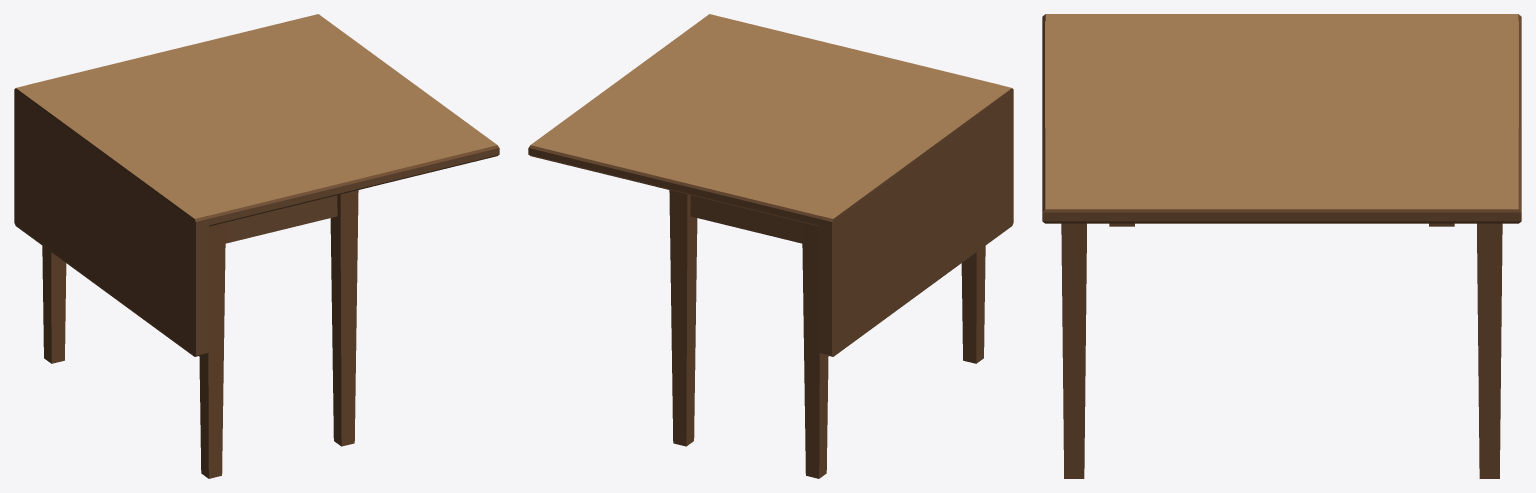
File: FN_Table_Drop_Leaf.glb
3 renders of one model, left to right at view 1: azimuth 30°, elevation 25°; view 2: azimuth 150°, elevation 25°; view 3: azimuth 270°, elevation 25°, orthographic. The views are drawn at different scales.
Visible parts, largest first — view 1: FN_Table_Drop_Leaf; view 2: FN_Table_Drop_Leaf; view 3: FN_Table_Drop_Leaf.
Boxes of the visible parts, <box> form: FN_Table_Drop_Leaf: <box>14,14,499,478</box>; FN_Table_Drop_Leaf: <box>528,14,1013,478</box>; FN_Table_Drop_Leaf: <box>1042,14,1521,478</box>.
Size of the model in its own units: 0.87 by 0.74 by 0.9.
1 material, 1 textured.
